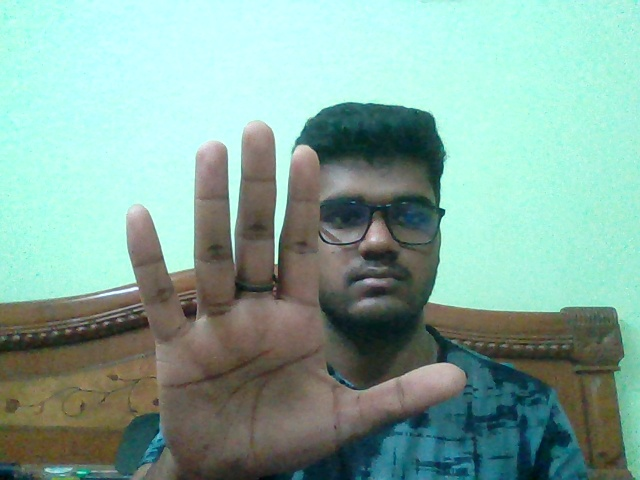Paper: (125, 121, 467, 480)
